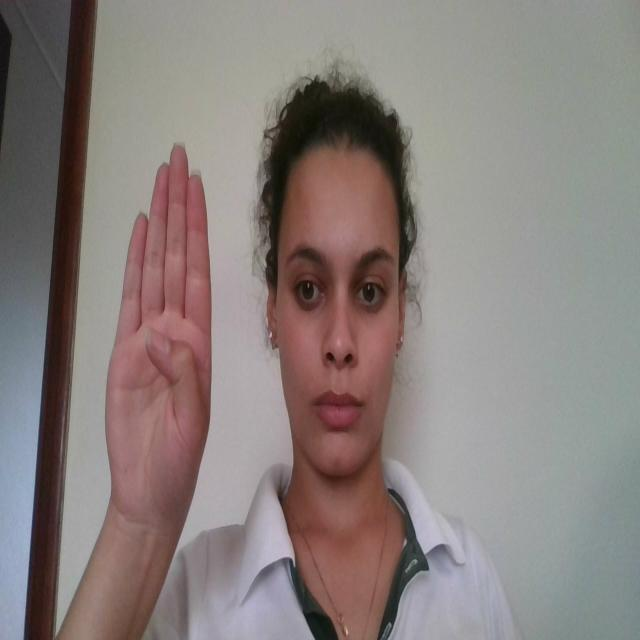B: (104, 144, 216, 526)
